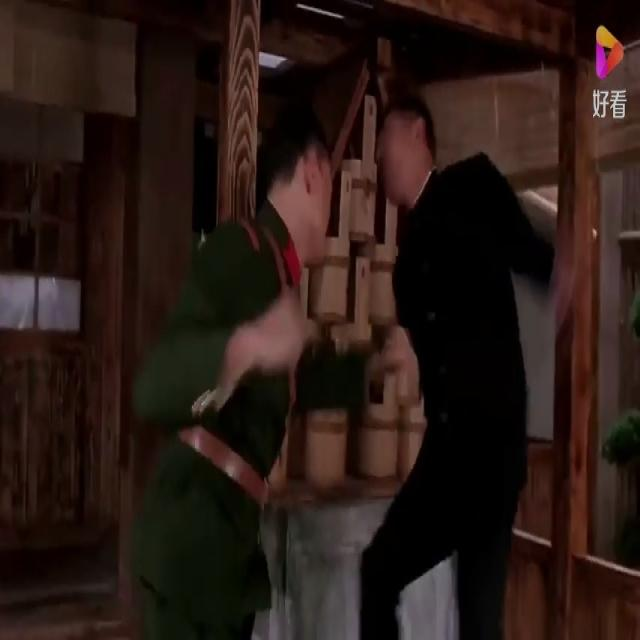fight: (4, 6, 575, 638)
